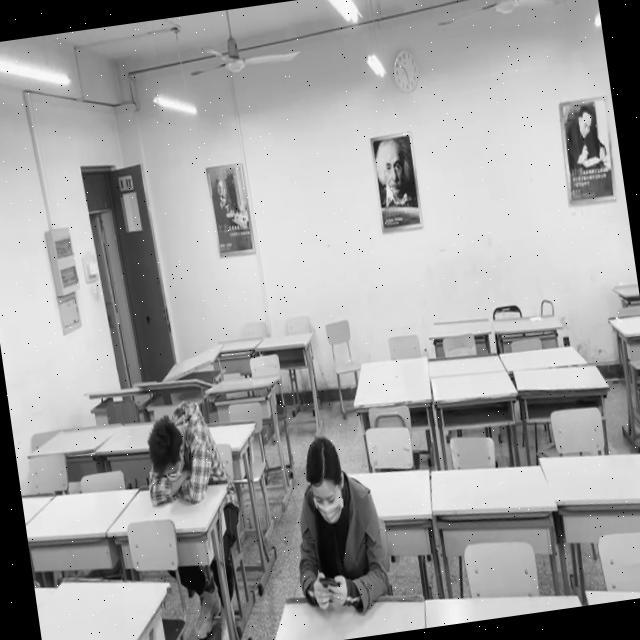phone: (280, 431, 391, 614)
sleep: (137, 398, 226, 507)
